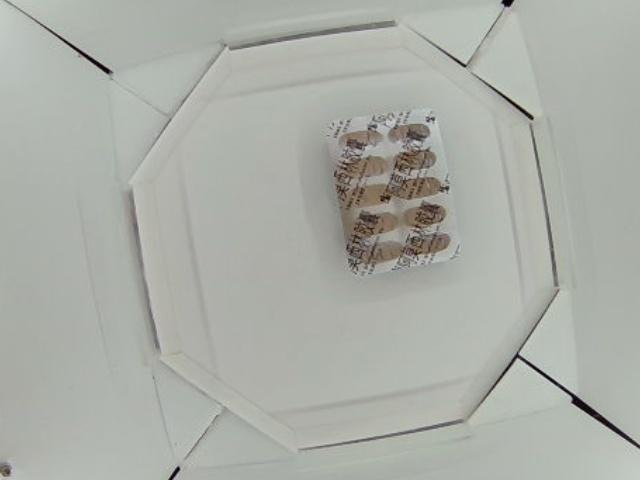Medicine: (326, 108, 463, 276)
